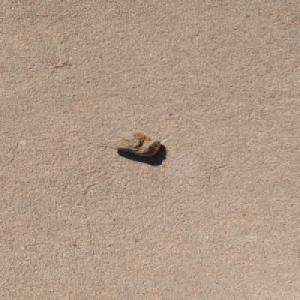Rock: (107, 130, 161, 156)
